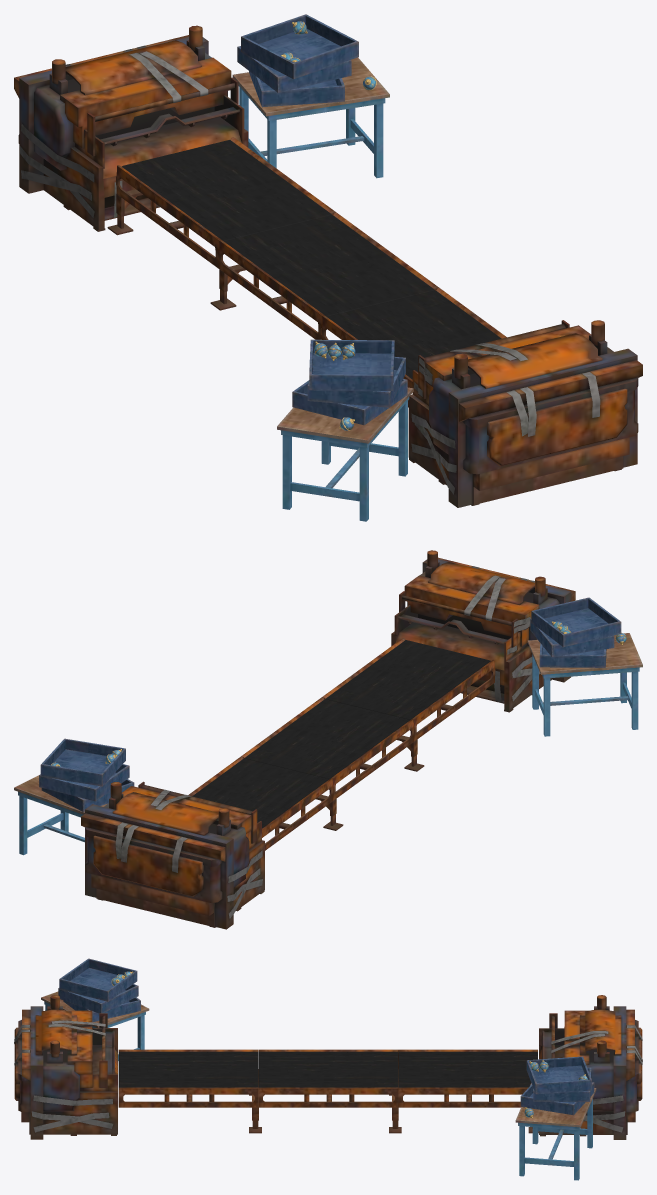
The model's file is SM_PalSphereFactoryModern_5b9b64.glb.
3 views of the same model, one above another, from view 1: azimuth 30°, elevation 25°; view 2: azimuth 150°, elevation 25°; view 3: azimuth 270°, elevation 25° (orthographic). The views are drawn at different scales.
Bounding box in the file's own units: 5.55 × 1.63 × 10.13.
4 materials, 4 textured.
